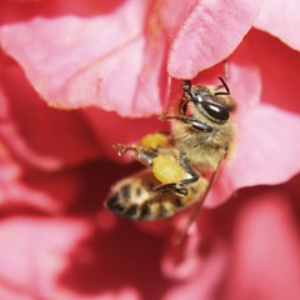bee: (101, 61, 244, 249)
